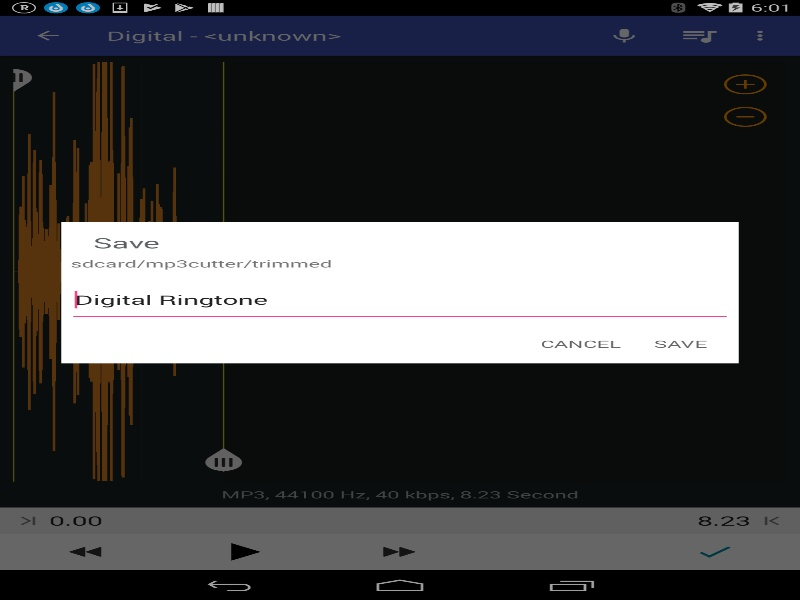Button: (524, 327, 637, 360), (637, 327, 722, 360)
Input: (68, 277, 732, 321)
